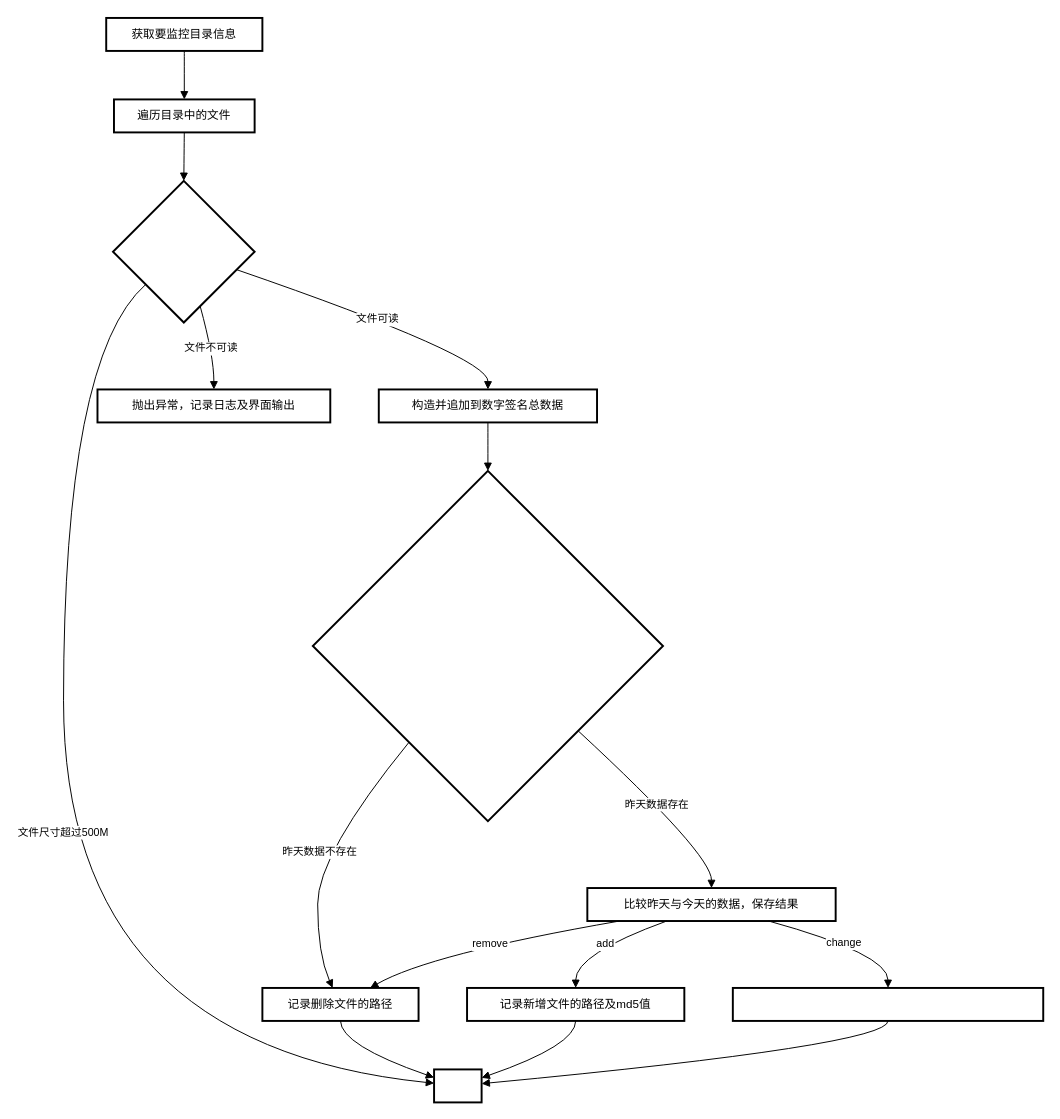
Some shapes in this 1060 by 1119 pixel diagram are drawn without their labels. The shapes that lost their labels are listed below. From the top down, each one's centre as x and y in pixels, then its label:
At [183,251]: "判断文件状态".
At [487,645]: "提交基础数据到远程服务器,比较并保存数据".
At [887,1003]: "记录被修改文件的路径及修改前后的md5值".
At [457,1085]: "结束".
